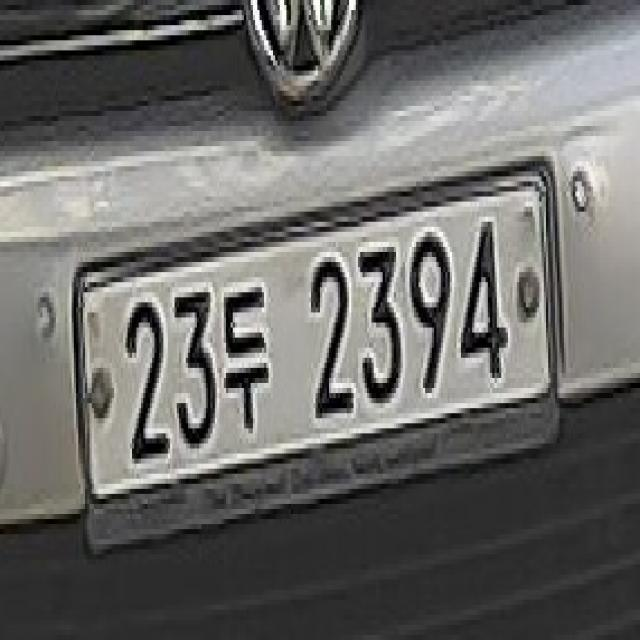2: (117, 289, 177, 471), (306, 241, 359, 432)
3: (171, 269, 229, 455), (357, 236, 411, 413)
4: (458, 207, 519, 398)
9: (404, 225, 457, 411)
du: (219, 261, 282, 443)
license_plate: (80, 175, 552, 500)
